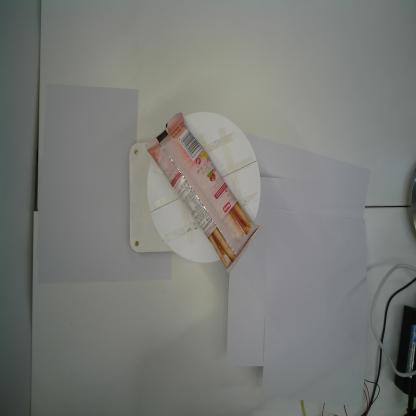Dessert: (144, 112, 262, 274)
